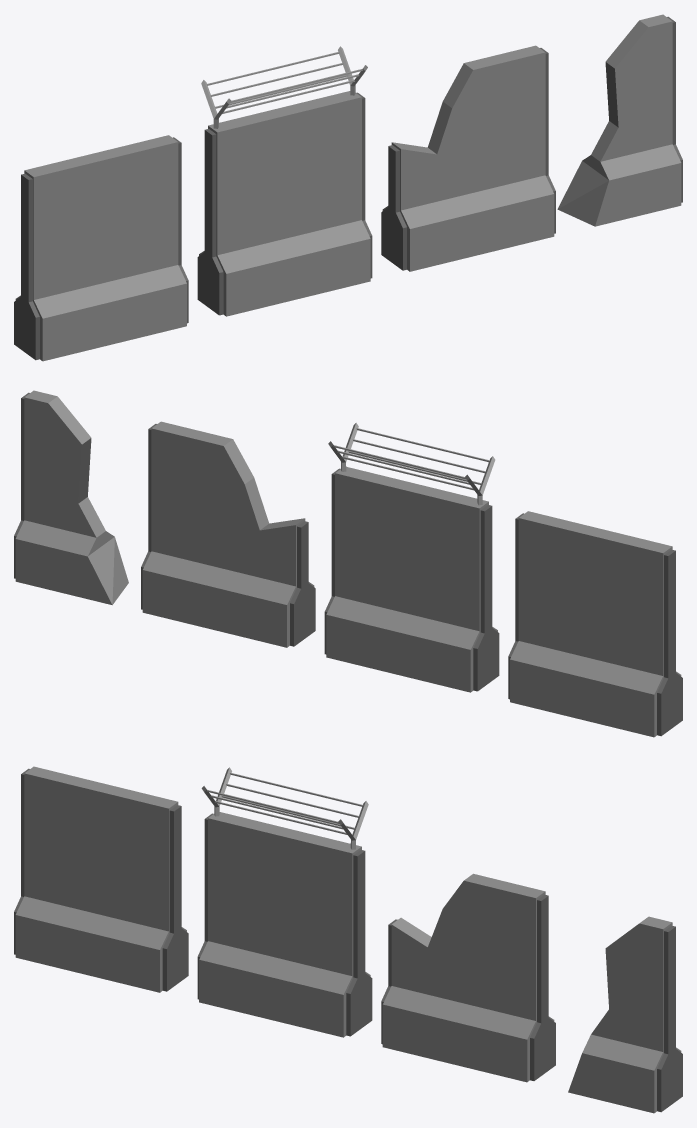
The model's file is Walls.FBX.
3 views of the same model, one above another, from view 1: azimuth 30°, elevation 25°; view 2: azimuth 150°, elevation 25°; view 3: azimuth 330°, elevation 25° (orthographic).
Parts seen in each view (by area): view 1: wall_02, wall_01, wall_Damaged_01, wall_Damaged_02; view 2: wall_02, wall_01, wall_Damaged_01, wall_Damaged_02; view 3: wall_02, wall_01, wall_Damaged_01, wall_Damaged_02.
Part boxes in pixels (left/top/right/bottom): wall_02: left=197, top=46, right=372, bottom=316; wall_01: left=14, top=135, right=188, bottom=361; wall_Damaged_01: left=381, top=45, right=555, bottom=271; wall_Damaged_02: left=557, top=14, right=682, bottom=226; wall_02: left=324, top=423, right=499, bottom=692; wall_01: left=508, top=511, right=682, bottom=737; wall_Damaged_01: left=141, top=421, right=315, bottom=647; wall_Damaged_02: left=14, top=390, right=128, bottom=605; wall_02: left=197, top=767, right=372, bottom=1037; wall_01: left=14, top=766, right=188, bottom=992; wall_Damaged_01: left=381, top=873, right=555, bottom=1082; wall_Damaged_02: left=568, top=916, right=682, bottom=1113.
Bounding box in the file's own units: 2115 × 677 × 153.
Materials: 1 (1 with a texture image).
